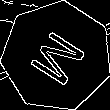M_SE: (23, 23, 91, 89)
